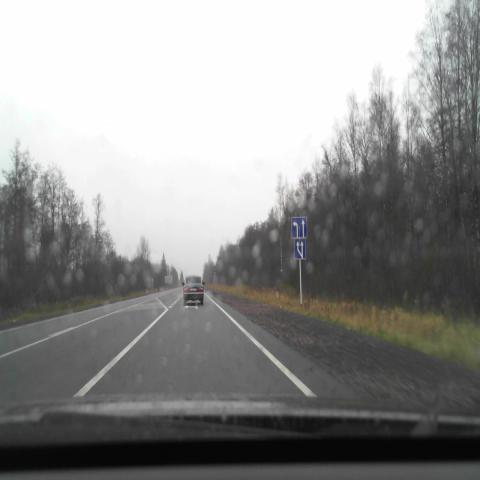5_15_2_2: (291, 216, 308, 239)
5_15_3: (294, 239, 306, 259)
